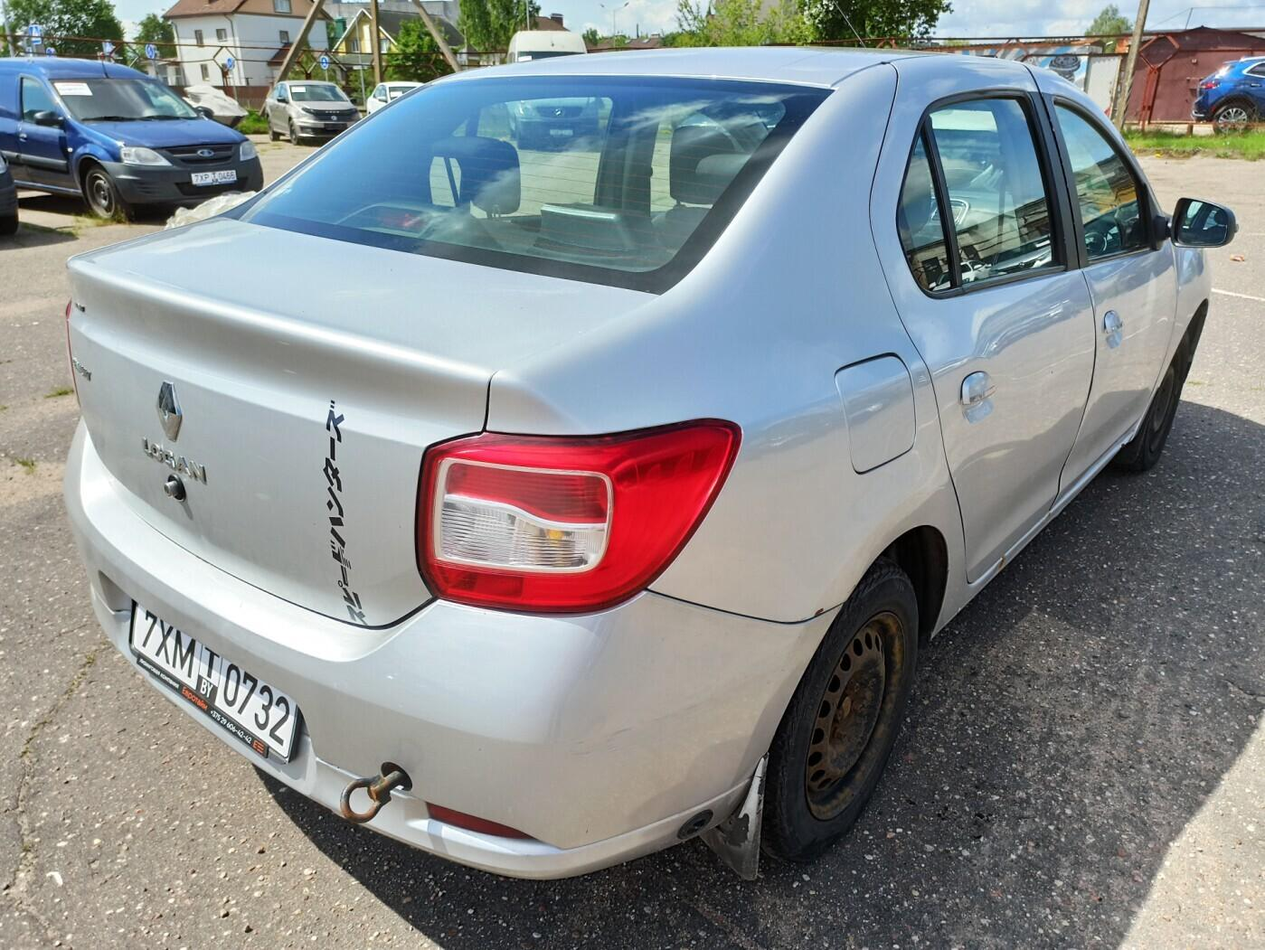Logan_2018: (49, 31, 1234, 885)
